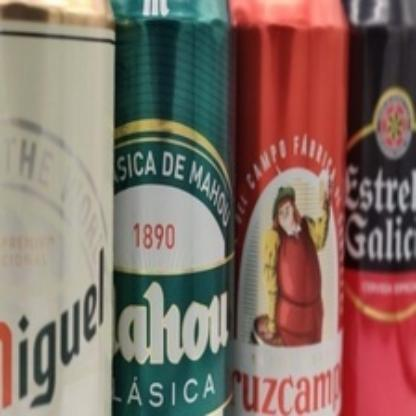Can: (114, 0, 238, 416), (229, 0, 345, 416), (0, 0, 116, 416), (340, 0, 416, 416)
